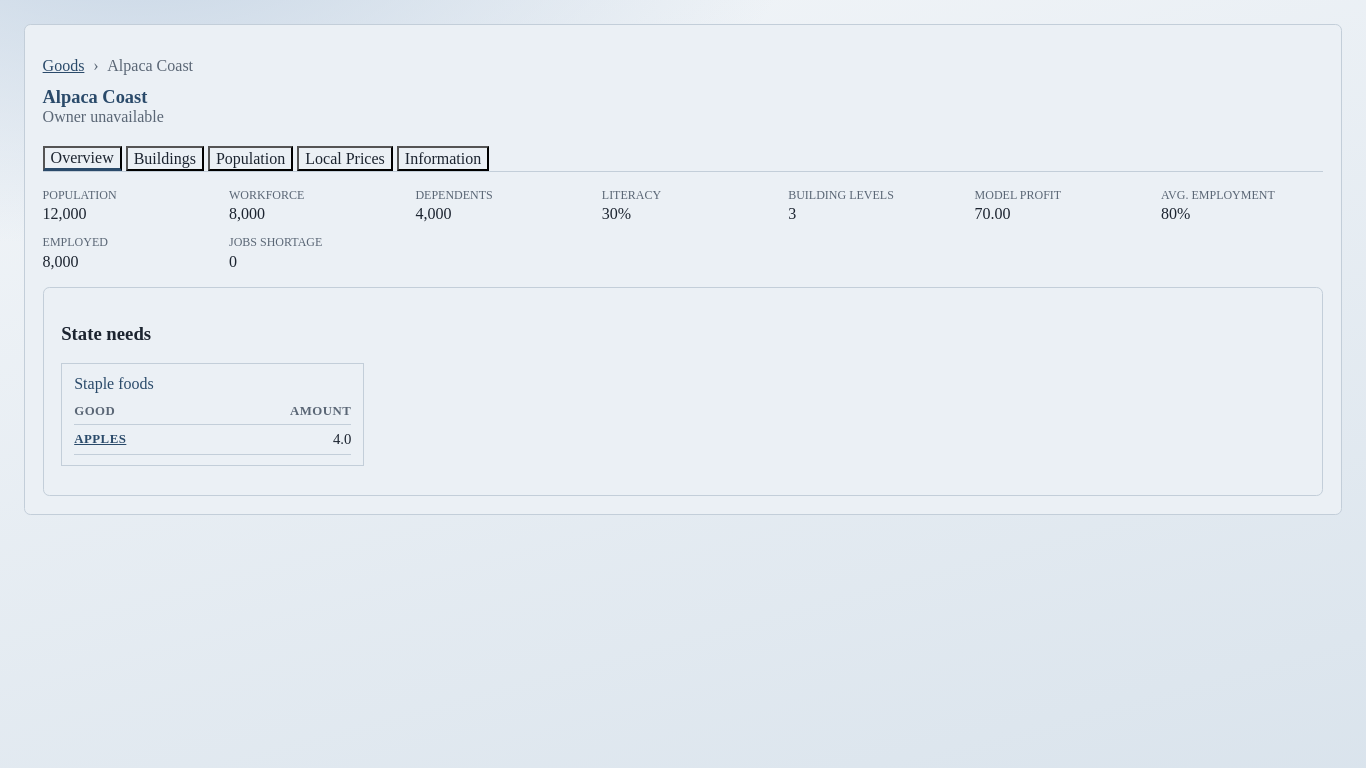
Scenario: PriceExplorer › lists this state local prices with good links
This screenshot has width=1366, height=768.
Click the tab "Local Prices": (345, 158) [297,146,393,171]
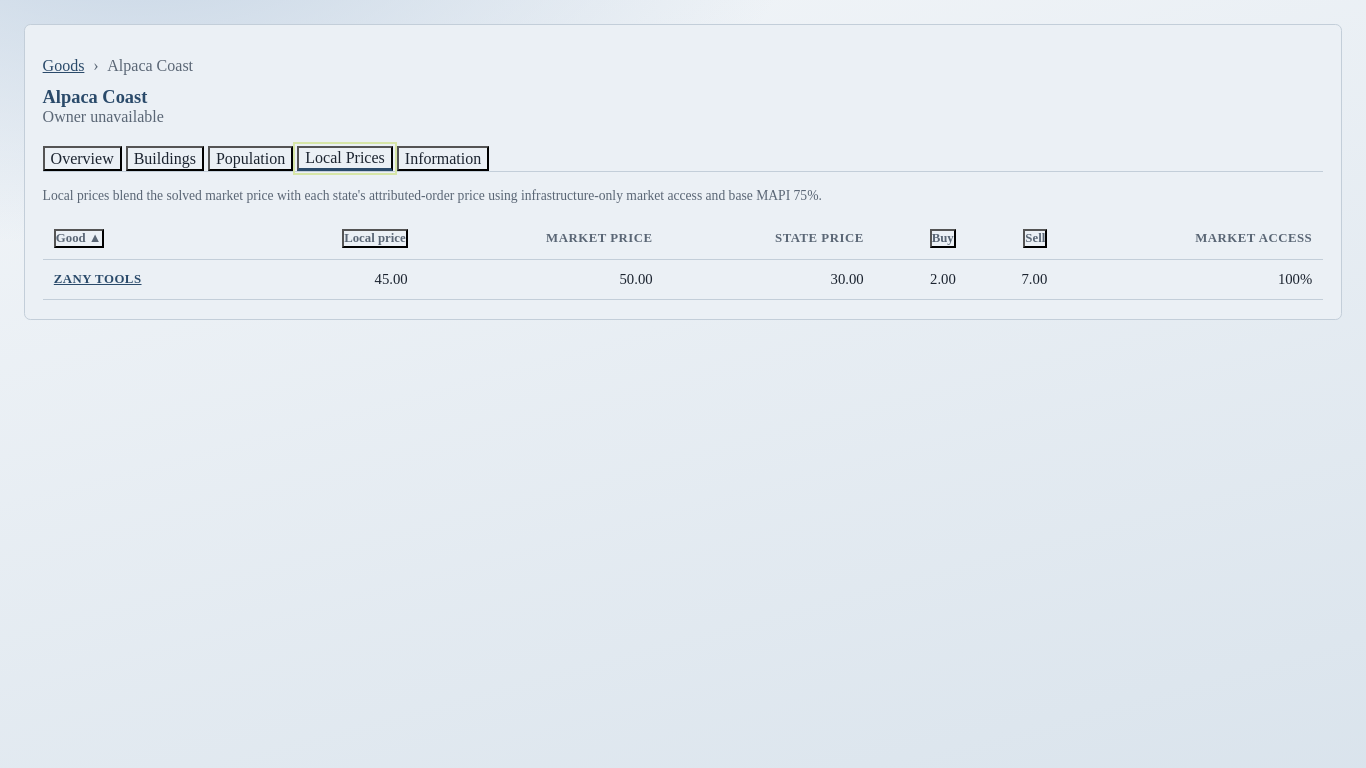
Expected: the link "Zany Tools" is shown, [54,272,142,287]
Expected: the text "45.00" is shown, [252,260,419,300]
